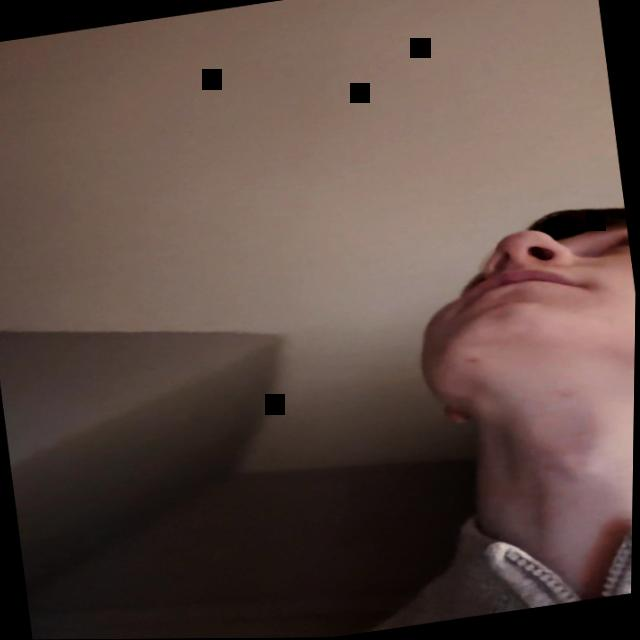NO-Mask: (404, 205, 638, 408)
